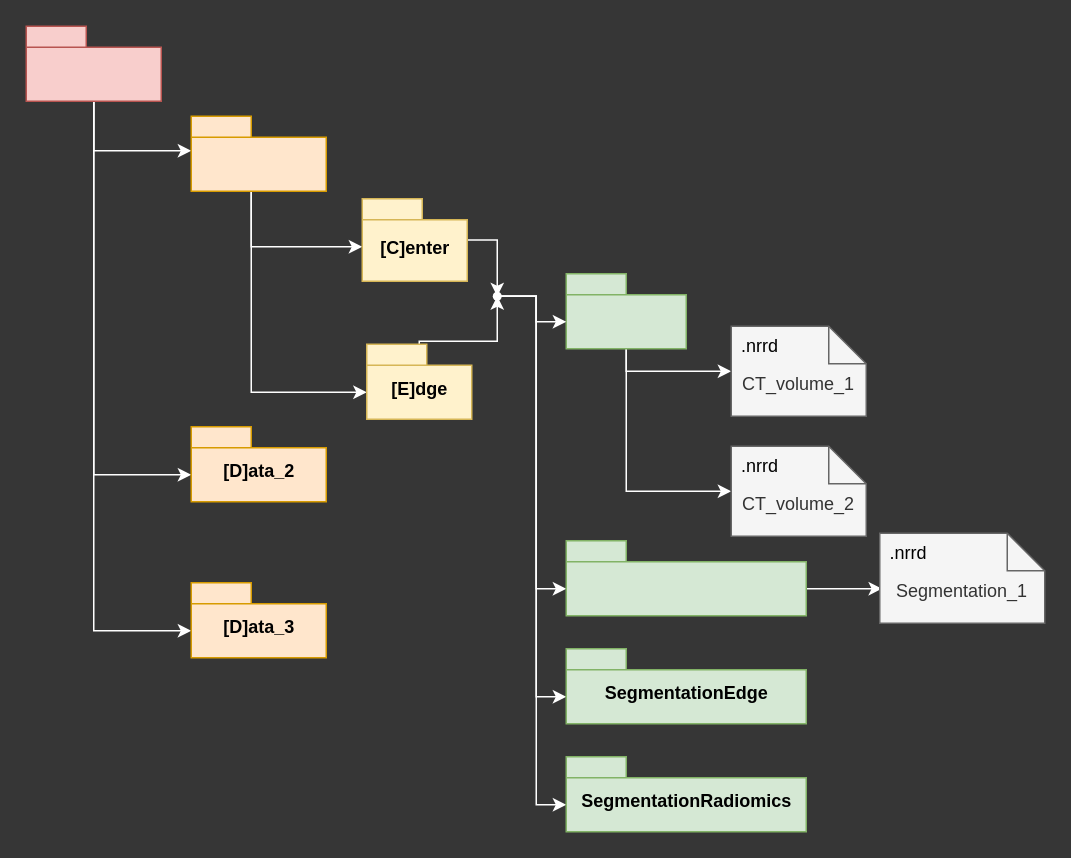
This 1071x858 diagram has some shape labels left out. The shapes that lost their labels are listed below. From the top down, each one's centre as x and y in pixels, then its label:
At [93,63]: "Main folder".
At [258,153]: "[D]ata_1".
At [625,310]: "[P]rotocol_1".
At [685,577]: "SegmentationCalibration".
